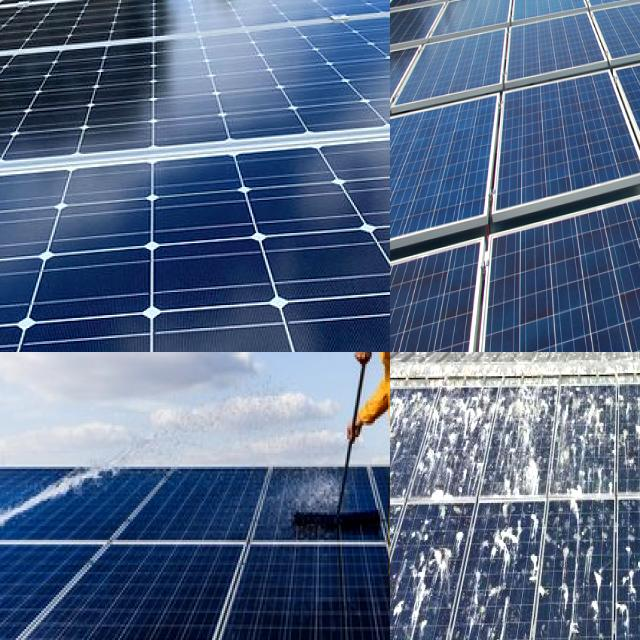bird: (422, 512, 470, 594), (564, 403, 602, 483), (488, 512, 527, 578), (556, 541, 584, 628), (491, 587, 526, 640), (390, 539, 406, 631), (589, 547, 607, 628), (390, 582, 413, 640), (627, 398, 640, 480)
crack: (36, 211, 365, 352), (0, 529, 267, 640), (473, 180, 640, 352), (497, 50, 640, 238), (0, 184, 154, 345), (12, 65, 204, 189), (487, 81, 640, 221), (272, 217, 390, 352), (236, 537, 390, 640), (133, 464, 274, 571), (156, 46, 316, 134), (490, 13, 640, 101), (106, 0, 252, 62), (586, 28, 640, 193)
